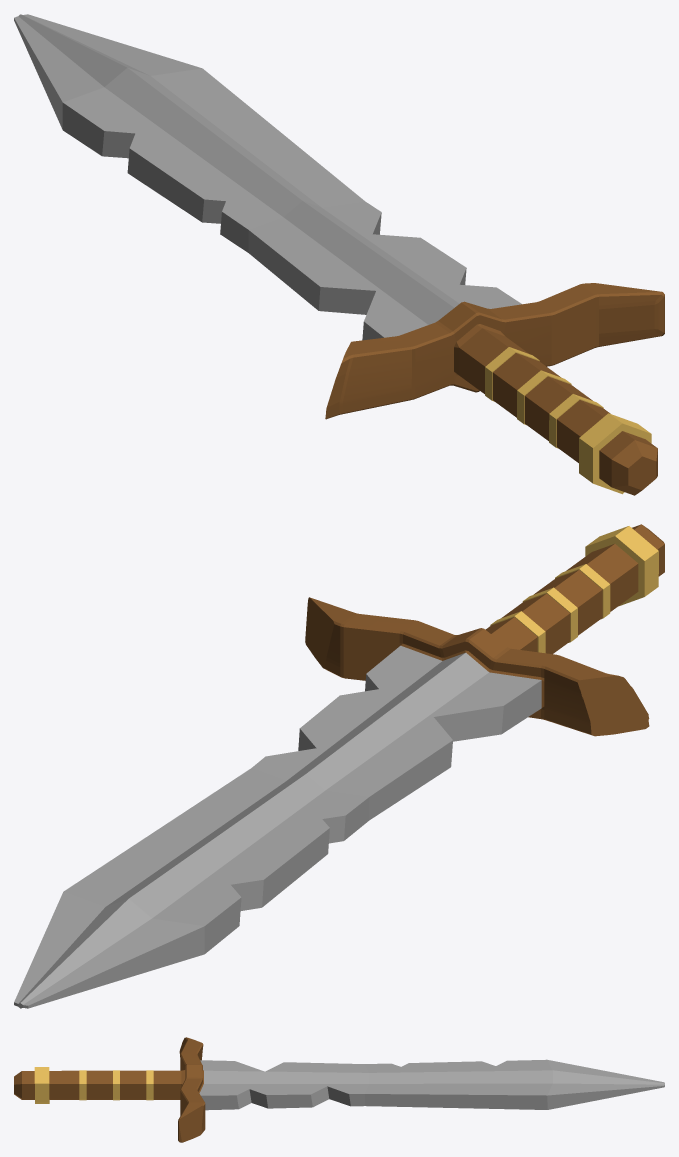
3 renders of one model, top to bottom at view 1: azimuth 30°, elevation 25°; view 2: azimuth 150°, elevation 25°; view 3: azimuth 270°, elevation 25°, orthographic. The views are drawn at different scales.
Parts seen in each view (by area): view 1: 2; view 2: 2; view 3: 2.
Part boxes in pixels (box(x1,y1,x2,y2)): 2: box(14, 14, 664, 495); 2: box(14, 524, 664, 1008); 2: box(14, 1037, 664, 1142).
Size of the model in its own units: 18.64 by 4.18 by 59.26.
